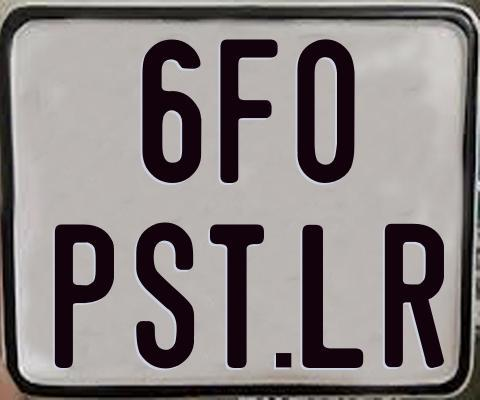0: (296, 39, 358, 186)
6: (140, 39, 206, 183)
F: (220, 36, 281, 184)
L: (300, 225, 363, 370)
P: (54, 221, 115, 367)
R: (382, 222, 441, 367)
S: (135, 221, 196, 374)
T: (208, 221, 265, 366)
